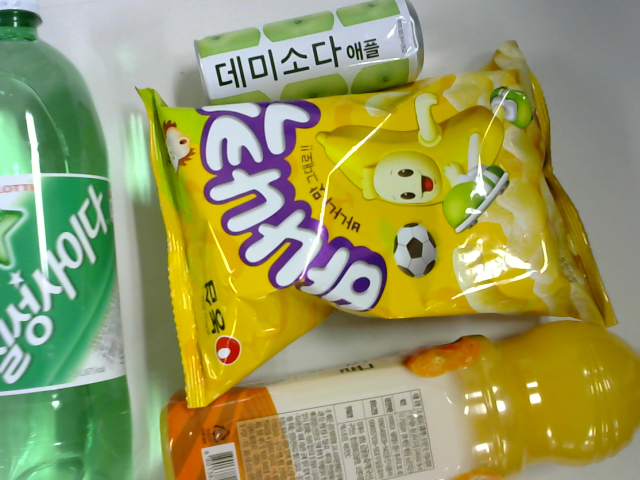Banana_Kick: (137, 72, 605, 343)
Chilseong_Cider_1.5L: (1, 8, 141, 477)
Demisoda_Apple_Can_250ml: (190, 1, 427, 107)
Jeju_Tangerine_1.5L: (164, 314, 627, 480)
